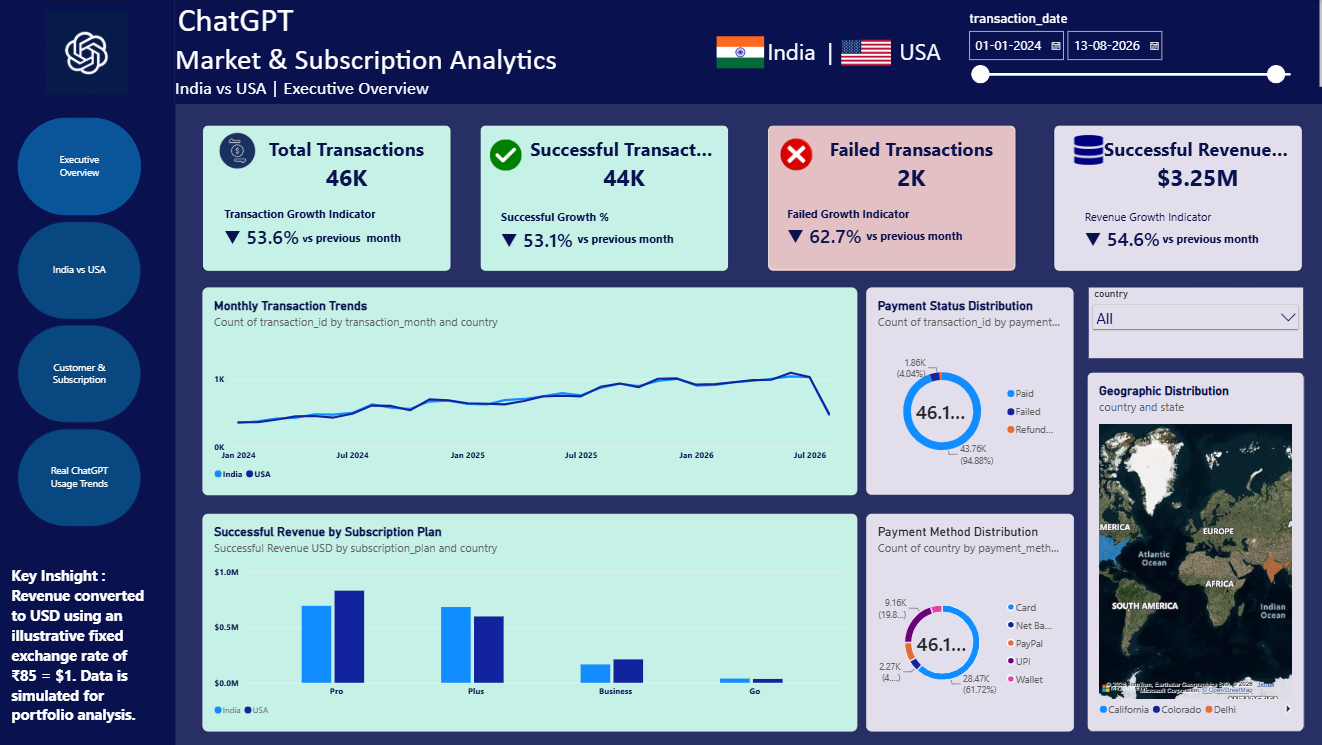

This screenshot's page, from the dashboard's own definition file:
{"tool":"powerbi","page":{"name":"Executive Overview","canvas":[1920,1080],"ordinal":0},"visuals":[{"type":"cardVisual","fields":{"Data":["combined_sales_50000.Total Transactions"]},"box":[293.2,181,360.1,211.7],"z":0},{"type":"shape","box":[0,0,253.2,150.3],"z":1000},{"type":"textbox","box":[253.4,0,1666.7,150.2],"z":2000},{"type":"image","box":[26,16,200,120],"z":3000},{"type":"textbox","box":[998,52,398,62],"z":4000},{"type":"image","box":[1020,52,102,46],"z":5000},{"type":"image","box":[1218,54,72,44],"z":6000},{"type":"slicer","fields":{"Values":["combined_sales_50000.transaction_date"]},"box":[1396,16,490,154],"z":7000},{"type":"shape","box":[0,150.2,254,930],"z":8000},{"type":"image","box":[307.6,191.8,72.4,52.5],"z":9000},{"type":"cardVisual","fields":{"Data":["combined_sales_50000.Successful Transactions"]},"box":[694.9,181,360.1,211.7],"z":10000},{"type":"cardVisual","fields":{"Data":["combined_sales_50000.Failed Transactions"]},"box":[1111.1,181,360.1,211.7],"z":11000},{"type":"cardVisual","fields":{"Data":["combined_sales_50000.Successful Revenue USD"]},"box":[1525.5,181,360.1,211.7],"z":12000},{"type":"image","box":[709.4,197.3,45.2,54.3],"z":13000},{"type":"image","box":[1120.2,195.4,65.1,56.1],"z":14000},{"type":"image","box":[1540,195.4,72.4,43.4],"z":15000},{"type":"cardVisual","fields":{"Data":["combined_sales_50000.Transaction Growth Indicator"]},"box":[307.6,277.3,329.4,105.9],"z":16000},{"type":"textbox","box":[438.7,332.8,196.5,27],"z":17000},{"type":"cardVisual","fields":{"Data":["combined_sales_50000.Successful Growth %"]},"box":[708.8,287,312,94.4],"z":18000},{"type":"textbox","box":[836,335.2,161.8,25],"z":19000},{"type":"cardVisual","fields":{"Data":["combined_sales_50000.Failed Growth Indicator"]},"box":[1123,277.4,294.7,104],"z":20000},{"type":"textbox","box":[1253.9,329.4,146.4,27],"z":21000},{"type":"cardVisual","fields":{"Data":["combined_sales_50000.Revenue Growth Indicator"]},"box":[1554.4,294.7,271.6,79],"z":22000},{"type":"textbox","box":[1683.5,335.2,142.5,25],"z":23000},{"type":"lineChart","title":"\tMonthly Transaction Trends","fields":{"Category":["combined_sales_50000.transaction_month"],"Series":["combined_sales_50000.country"],"Y":["CountNonNull(combined_sales_50000.transaction_id)"]},"box":[293.2,416.2,948.3,300.4],"z":24000},{"type":"clusteredColumnChart","title":"Successful Revenue by Subscription Plan","fields":{"Category":["combined_sales_50000.subscription_plan"],"Series":["combined_sales_50000.country"],"Y":["combined_sales_50000.Successful Revenue USD"]},"box":[293.2,743.8,948.3,314.9],"z":25000},{"type":"donutChart","title":"Payment Status Distribution","fields":{"Category":["combined_sales_50000.payment_status"],"Y":["CountNonNull(combined_sales_50000.transaction_id)"]},"box":[1254.1,416.2,300,300],"z":26000},{"type":"slicer","fields":{"Values":["combined_sales_50000.country"]},"box":[1575.6,416.1,310.1,102.1],"z":27000},{"type":"donutChart","title":"Payment Method Distribution","fields":{"Category":["combined_sales_50000.payment_method","combined_sales_50000.transaction_month"],"Y":["CountNonNull(combined_sales_50000.country)"]},"box":[1254.1,743.8,300.4,314.9],"z":28000},{"type":"filledMap","title":"\tGeographic Distribution","fields":{"Category":["combined_sales_50000.country"],"Series":["combined_sales_50000.state"]},"box":[1575.3,539.8,312.7,518.9],"z":29000},{"type":"pageNavigator","box":[25.3,170.1,179.2,593.6],"z":30000},{"type":"textbox","box":[15.4,799.4,217.7,267.7],"z":31000}]}

Visuals, with their boxes on the page's 1920x1080 design canvas (x1, y1, x2, y2). These are canvas units, not pixel positions in the 1322x745 screenshot, which may show the page scaled, cropped or inside an application window:
cardVisual - combined_sales_50000.Total Transactions: detection(293, 181, 653, 393)
shape: detection(0, 0, 253, 150)
textbox: detection(253, 0, 1920, 150)
image: detection(26, 16, 226, 136)
textbox: detection(998, 52, 1396, 114)
image: detection(1020, 52, 1122, 98)
image: detection(1218, 54, 1290, 98)
slicer - combined_sales_50000.transaction_date: detection(1396, 16, 1886, 170)
shape: detection(0, 150, 254, 1080)
image: detection(308, 192, 380, 244)
cardVisual - combined_sales_50000.Successful Transactions: detection(695, 181, 1055, 393)
cardVisual - combined_sales_50000.Failed Transactions: detection(1111, 181, 1471, 393)
cardVisual - combined_sales_50000.Successful Revenue USD: detection(1526, 181, 1886, 393)
image: detection(709, 197, 755, 252)
image: detection(1120, 195, 1185, 252)
image: detection(1540, 195, 1612, 239)
cardVisual - combined_sales_50000.Transaction Growth Indicator: detection(308, 277, 637, 383)
textbox: detection(439, 333, 635, 360)
cardVisual - combined_sales_50000.Successful Growth %: detection(709, 287, 1021, 381)
textbox: detection(836, 335, 998, 360)
cardVisual - combined_sales_50000.Failed Growth Indicator: detection(1123, 277, 1418, 381)
textbox: detection(1254, 329, 1400, 356)
cardVisual - combined_sales_50000.Revenue Growth Indicator: detection(1554, 295, 1826, 374)
textbox: detection(1684, 335, 1826, 360)
"	Monthly Transaction Trends" lineChart: detection(293, 416, 1242, 717)
"Successful Revenue by Subscription Plan" clusteredColumnChart: detection(293, 744, 1242, 1059)
"Payment Status Distribution" donutChart: detection(1254, 416, 1554, 716)
slicer - combined_sales_50000.country: detection(1576, 416, 1886, 518)
"Payment Method Distribution" donutChart: detection(1254, 744, 1554, 1059)
"	Geographic Distribution" filledMap: detection(1575, 540, 1888, 1059)
pageNavigator: detection(25, 170, 204, 764)
textbox: detection(15, 799, 233, 1067)
